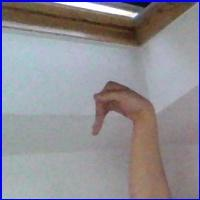del: (88, 76, 152, 142)
